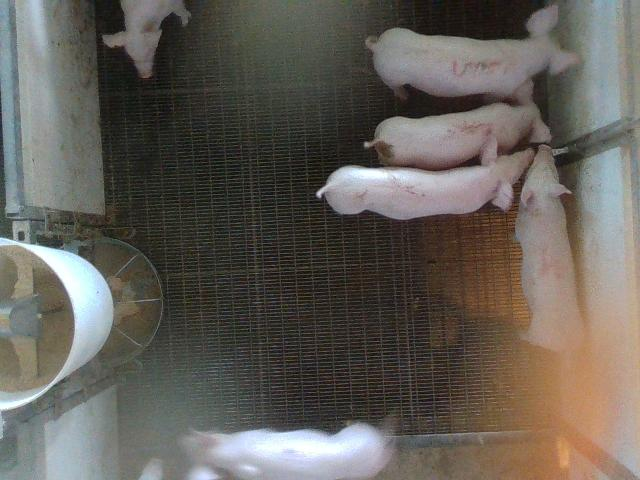pig-3: (365, 5, 580, 104)
pig-4: (515, 145, 584, 351)
pig-5: (364, 102, 550, 169)
